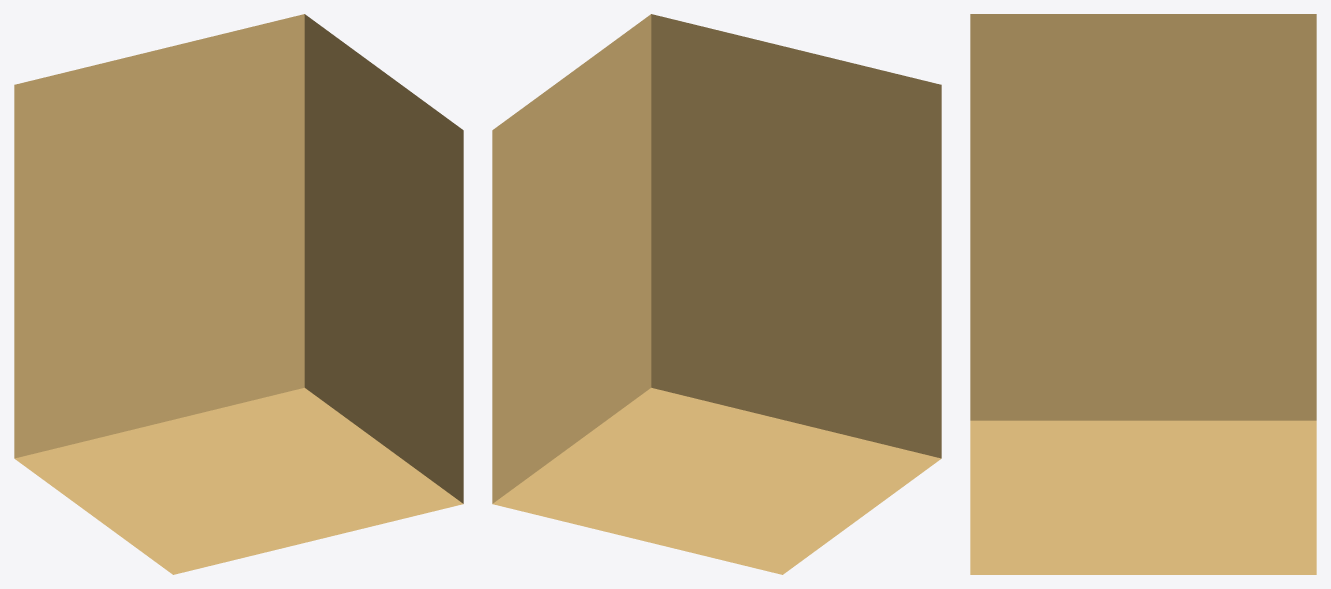
Rendered from effects-nagara-temple-014.glb.
The picture shows the model from 3 angles, left to right: view 1: azimuth 30°, elevation 25°; view 2: azimuth 150°, elevation 25°; view 3: azimuth 270°, elevation 25°; orthographic projection. The views are drawn at different scales.
Visible parts, largest first — view 1: Nagara Temple Effects; view 2: Nagara Temple Effects; view 3: Nagara Temple Effects.
Part boxes in pixels (x1,y1,x2,y2): Nagara Temple Effects: (14, 14, 463, 574); Nagara Temple Effects: (492, 14, 941, 574); Nagara Temple Effects: (970, 14, 1316, 574).
Size of the model in its own units: 1.35 by 1.66 by 1.28.
